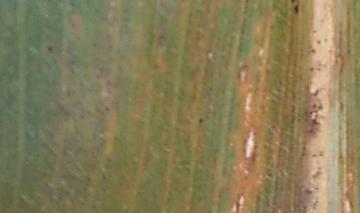tarspot: (310, 170, 322, 180), (292, 2, 300, 16), (338, 101, 346, 115), (310, 118, 321, 127), (310, 88, 319, 98), (102, 104, 111, 114), (317, 149, 325, 159), (303, 188, 313, 196), (45, 45, 53, 54), (197, 116, 206, 124), (344, 47, 353, 55), (307, 65, 315, 74), (316, 102, 324, 111), (310, 28, 318, 36), (90, 41, 97, 49), (315, 38, 321, 47), (310, 102, 317, 109), (310, 47, 316, 55), (310, 152, 316, 159), (289, 1, 295, 5)
